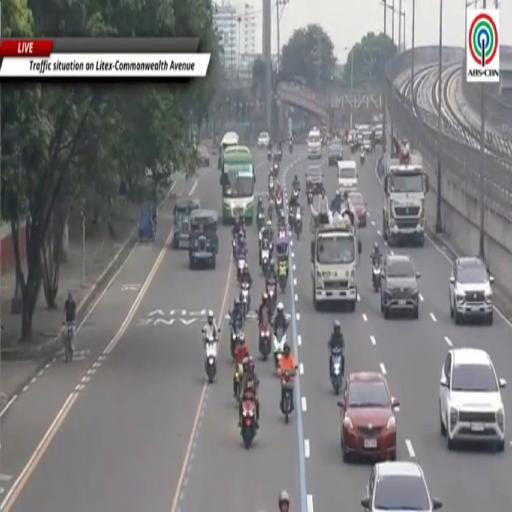bus: (221, 152, 254, 225), (225, 146, 255, 182), (219, 132, 239, 169)
car: (439, 348, 506, 452), (338, 372, 399, 461), (361, 461, 442, 511), (450, 256, 494, 325), (381, 253, 420, 318), (349, 192, 366, 227), (306, 166, 323, 195), (328, 139, 343, 166), (197, 146, 209, 167), (258, 133, 270, 148)
motorcycle: (241, 399, 256, 449), (281, 371, 293, 423), (273, 332, 286, 374), (205, 338, 217, 383), (331, 348, 342, 395), (259, 325, 271, 360), (234, 365, 244, 403), (230, 325, 241, 359), (240, 283, 250, 319), (266, 280, 276, 314), (278, 261, 287, 293), (294, 208, 302, 239), (372, 262, 380, 292), (237, 256, 246, 282), (261, 248, 269, 275), (288, 206, 297, 229), (257, 211, 265, 230), (291, 188, 300, 203), (268, 181, 275, 199), (276, 195, 282, 215), (306, 190, 313, 206), (268, 198, 273, 220), (232, 238, 236, 260), (273, 162, 279, 175), (360, 150, 365, 165), (279, 229, 286, 237), (267, 150, 272, 161), (277, 150, 282, 161), (350, 143, 355, 153), (289, 143, 293, 153)
truck: (311, 219, 361, 311), (383, 152, 428, 246)
